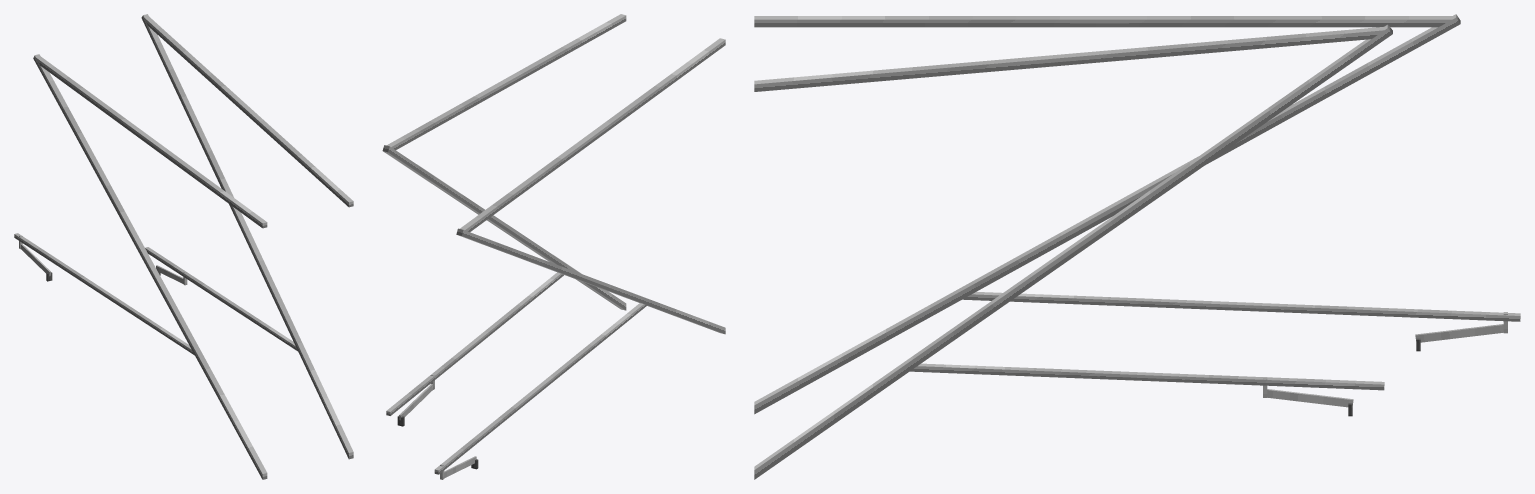
Rendered from cantilever_center_12px.obj.
The picture shows the model from 3 angles, left to right: view 1: azimuth 30°, elevation 25°; view 2: azimuth 150°, elevation 25°; view 3: azimuth 270°, elevation 25°; orthographic projection. The views are drawn at different scales.
Visible parts, largest first — view 1: b0858938-0204-401f-92e2-9116178ce46a, b87dfd91-81df-40e4-a48f-cc403fae1111, e414b672-86f6-4ead-a840-471ae140f2ac, 83390b57-46a5-4c8e-9382-dfcc80202998, 4153e640-3d3e-41e5-800d-d0678f24ceca, 788185ee-b18c-4538-ab1d-2bc9f7dbe93e; view 2: e414b672-86f6-4ead-a840-471ae140f2ac, 83390b57-46a5-4c8e-9382-dfcc80202998, b0858938-0204-401f-92e2-9116178ce46a, b87dfd91-81df-40e4-a48f-cc403fae1111, 4153e640-3d3e-41e5-800d-d0678f24ceca, 788185ee-b18c-4538-ab1d-2bc9f7dbe93e; view 3: b87dfd91-81df-40e4-a48f-cc403fae1111, e414b672-86f6-4ead-a840-471ae140f2ac, b0858938-0204-401f-92e2-9116178ce46a, 83390b57-46a5-4c8e-9382-dfcc80202998, 4153e640-3d3e-41e5-800d-d0678f24ceca, 788185ee-b18c-4538-ab1d-2bc9f7dbe93e, 3b99b591-b17b-40dc-9cee-2228fe84b800, 670f231c-c4d5-4bcb-ad20-df966ab19301.
Part boxes in pixels (x1=…): b0858938-0204-401f-92e2-9116178ce46a: x1=33, y1=54, x2=267, y2=479; b87dfd91-81df-40e4-a48f-cc403fae1111: x1=141, y1=14, x2=353, y2=459; e414b672-86f6-4ead-a840-471ae140f2ac: x1=36, y1=56, x2=267, y2=228; 83390b57-46a5-4c8e-9382-dfcc80202998: x1=144, y1=16, x2=353, y2=207; 4153e640-3d3e-41e5-800d-d0678f24ceca: x1=14, y1=233, x2=194, y2=355; 788185ee-b18c-4538-ab1d-2bc9f7dbe93e: x1=145, y1=247, x2=297, y2=351; e414b672-86f6-4ead-a840-471ae140f2ac: x1=460, y1=38, x2=725, y2=231; 83390b57-46a5-4c8e-9382-dfcc80202998: x1=386, y1=14, x2=626, y2=149; b0858938-0204-401f-92e2-9116178ce46a: x1=456, y1=228, x2=725, y2=334; b87dfd91-81df-40e4-a48f-cc403fae1111: x1=382, y1=145, x2=626, y2=310; 4153e640-3d3e-41e5-800d-d0678f24ceca: x1=434, y1=303, x2=647, y2=474; 788185ee-b18c-4538-ab1d-2bc9f7dbe93e: x1=386, y1=272, x2=563, y2=415; b87dfd91-81df-40e4-a48f-cc403fae1111: x1=754, y1=24, x2=1392, y2=479; e414b672-86f6-4ead-a840-471ae140f2ac: x1=754, y1=16, x2=1452, y2=27; b0858938-0204-401f-92e2-9116178ce46a: x1=754, y1=14, x2=1460, y2=414; 83390b57-46a5-4c8e-9382-dfcc80202998: x1=754, y1=27, x2=1384, y2=91; 4153e640-3d3e-41e5-800d-d0678f24ceca: x1=962, y1=292, x2=1520, y2=321; 788185ee-b18c-4538-ab1d-2bc9f7dbe93e: x1=910, y1=363, x2=1384, y2=390; 3b99b591-b17b-40dc-9cee-2228fe84b800: x1=1415, y1=324, x2=1503, y2=342; 670f231c-c4d5-4bcb-ad20-df966ab19301: x1=1267, y1=389, x2=1353, y2=407.
Size of the model in its own units: 1.19 by 3.66 by 5.62.
